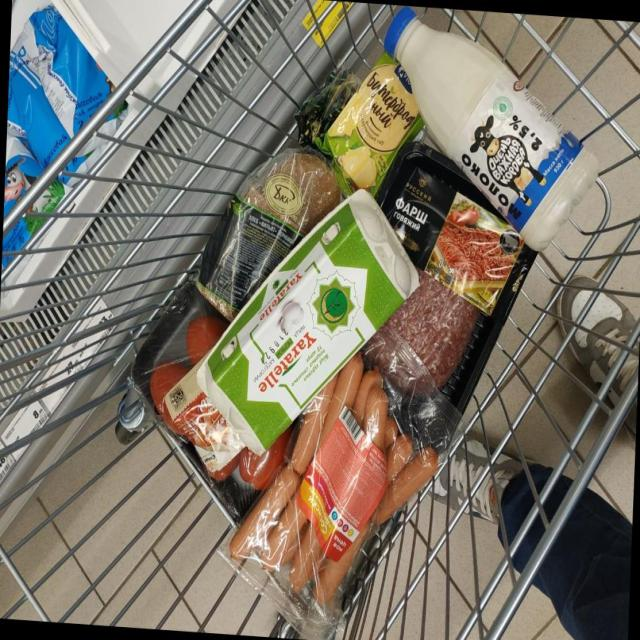Bread: (197, 149, 340, 320), (295, 71, 360, 149)
Cheese: (323, 53, 425, 196)
Eggs: (196, 191, 418, 454)
Meat: (362, 143, 536, 451)
Milk: (385, 7, 598, 249)
Sausages: (221, 327, 461, 640)
Tomatoes: (238, 426, 292, 490), (150, 361, 189, 414), (186, 316, 227, 365), (208, 453, 240, 480)
